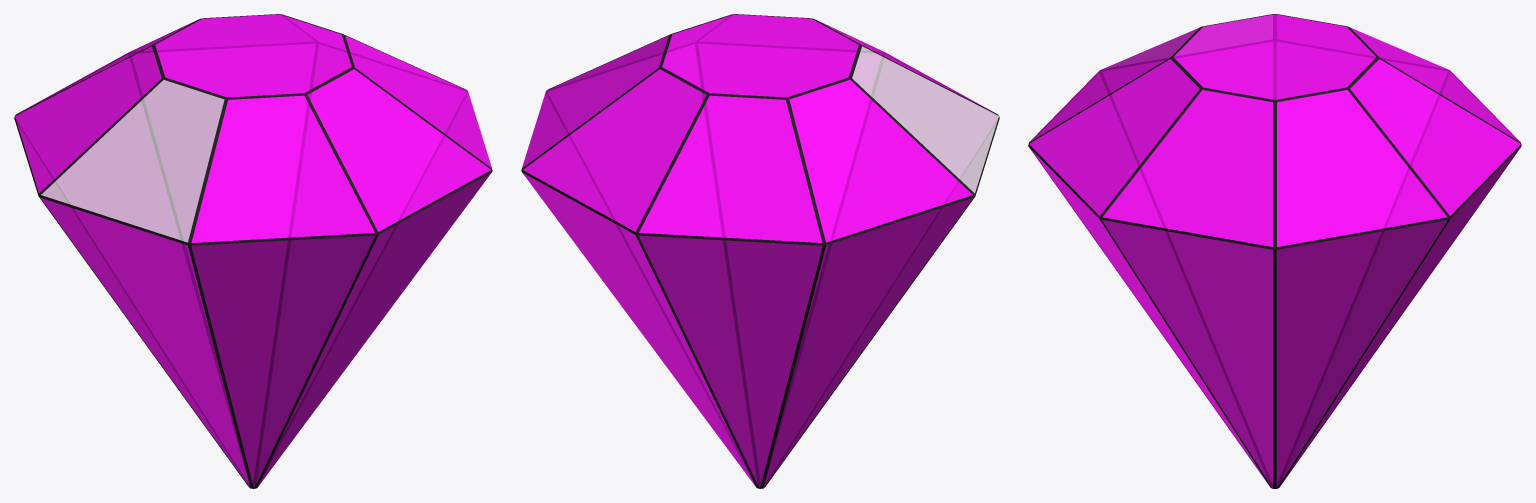
File: diamond_purple.fbx
The picture shows the model from 3 angles, left to right: view 1: azimuth 30°, elevation 25°; view 2: azimuth 150°, elevation 25°; view 3: azimuth 270°, elevation 25°; orthographic projection.
Parts seen in each view (by area): view 1: Cylinder; view 2: Cylinder; view 3: Cylinder.
Part boxes in pixels (<box>): Cylinder: <box>14,14,492,488</box>; Cylinder: <box>521,14,999,488</box>; Cylinder: <box>1028,14,1521,488</box>.
Size of the model in its own units: 191 by 184 by 191.
